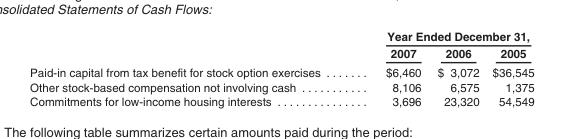table: (29, 29, 533, 107)
table column: (29, 29, 352, 107), (352, 29, 428, 107), (428, 29, 485, 107), (485, 29, 533, 107)
table column header: (29, 29, 533, 62)
table row: (29, 44, 533, 62), (29, 62, 533, 79), (29, 29, 533, 44), (29, 79, 533, 93), (29, 93, 533, 107)
table spanning cell: (352, 29, 533, 44)
